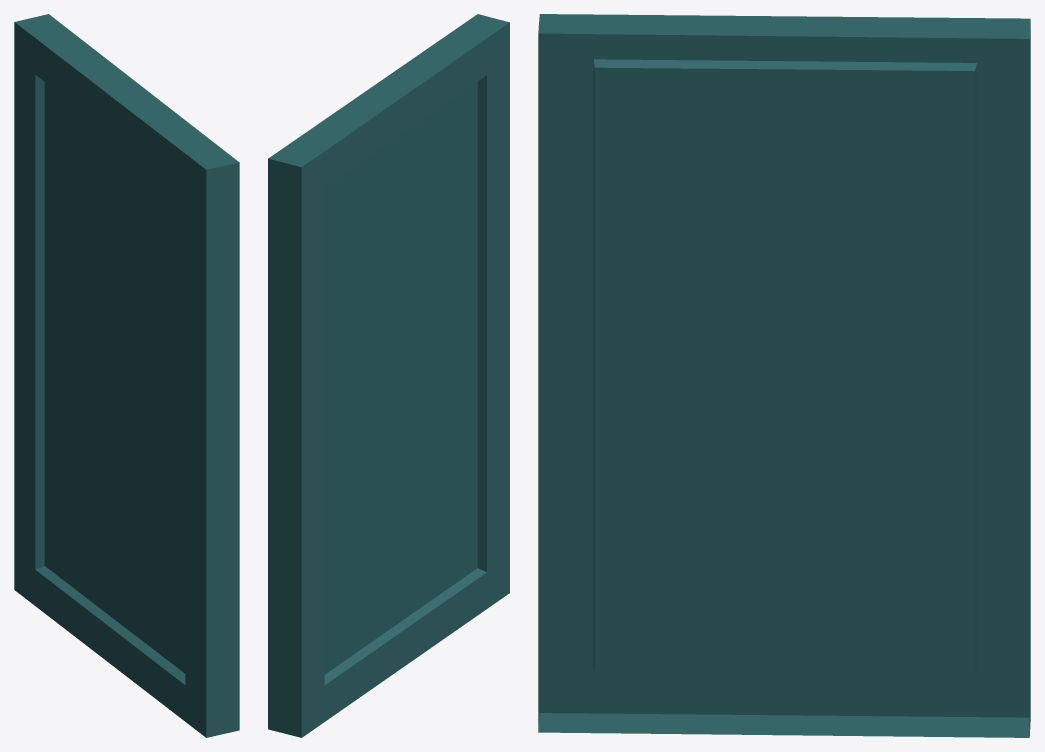
File: OM_FridgePad.fbx
The picture shows the model from 3 angles, left to right: view 1: azimuth 30°, elevation 25°; view 2: azimuth 150°, elevation 25°; view 3: azimuth 270°, elevation 25°; orthographic projection. The views are drawn at different scales.
Visible parts, largest first — view 1: FridgePad; view 2: FridgePad; view 3: FridgePad.
Part boxes in pixels (bbox=[...]): FridgePad: bbox=[14, 14, 239, 737]; FridgePad: bbox=[268, 14, 509, 737]; FridgePad: bbox=[538, 14, 1030, 737].
Size of the model in its own units: 4.46 by 58.23 by 37.18.
